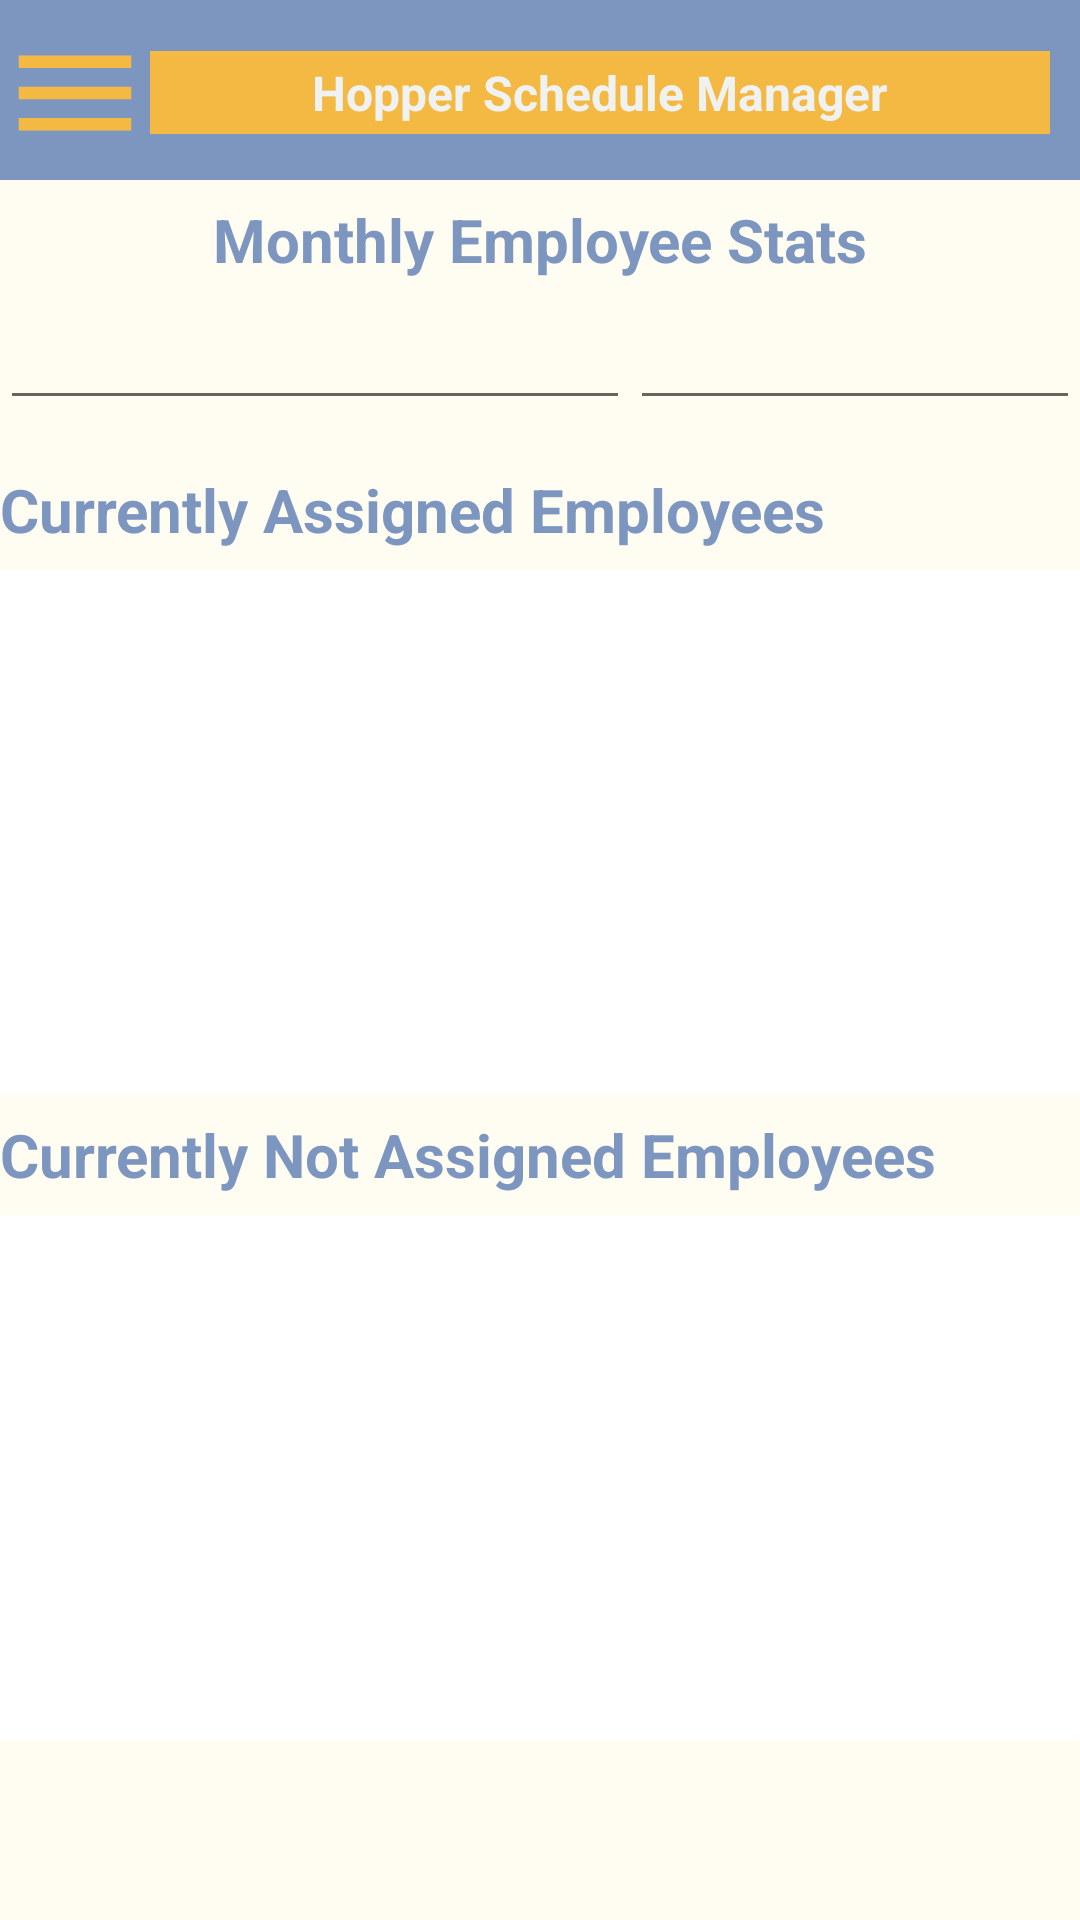

Icon click points for this 1080w x 1920h phone screenshot, format point (x, y):
menu: point (75, 93)
